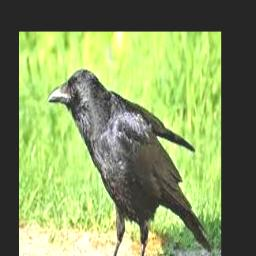Crow: (45, 68, 211, 256)
